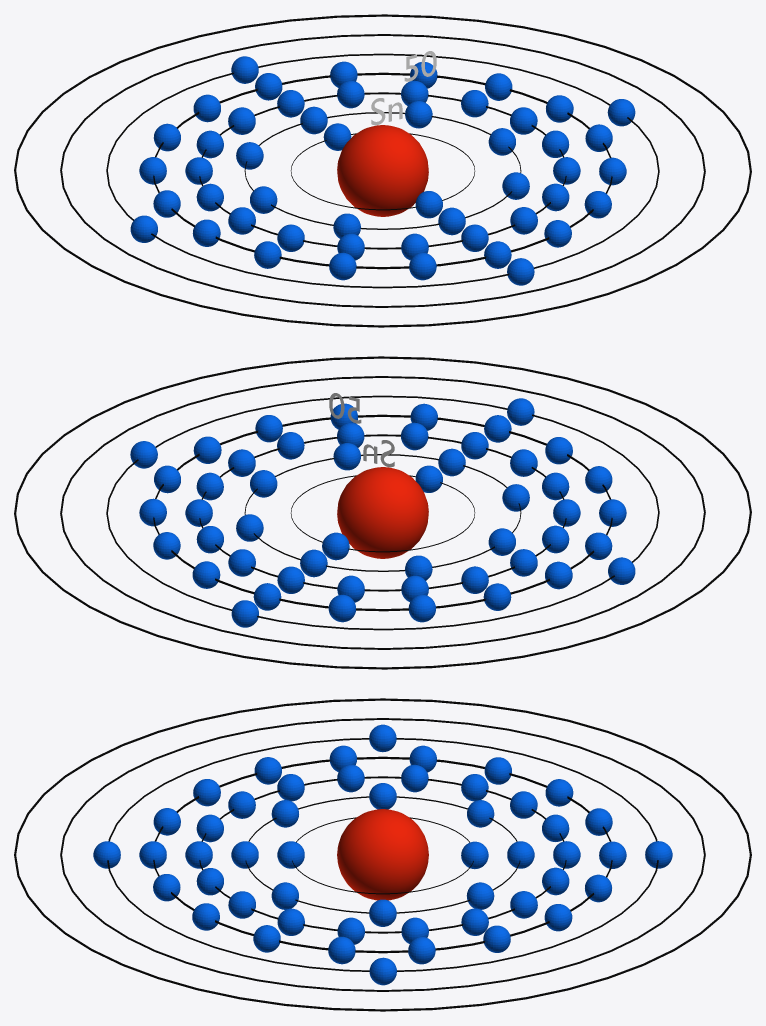
The picture shows the model from 3 angles, top to bottom: view 1: azimuth 30°, elevation 25°; view 2: azimuth 150°, elevation 25°; view 3: azimuth 270°, elevation 25°; orthographic projection.
Parts seen in each view (by area): view 1: Sn3, Sn4, Proton, Sn2, n7, n6, n5, Sn5, n4, Sn1, n3, n2; view 2: Sn3, Sn4, Proton, Sn2, n7, n6, n5, Sn5, n4, Sn1, n3, n2; view 3: Sn3, Sn4, Proton, Sn2, n7, n6, n5, Sn5, n4, Sn1, n3, n2 (+1 smaller).
Part boxes in pixels (x1,y1,x2,y2): Sn3: (185, 80, 580, 260); Sn4: (139, 61, 626, 280); Proton: (337, 125, 428, 216); Sn2: (236, 101, 529, 238); n7: (14, 14, 751, 327); n6: (60, 34, 705, 307); n5: (106, 53, 659, 288); Sn5: (130, 56, 635, 285); n4: (153, 72, 612, 269); Sn1: (323, 123, 442, 218); n3: (199, 92, 566, 249); n2: (244, 112, 521, 229); Sn3: (185, 422, 580, 602); Sn4: (139, 403, 626, 622); Proton: (337, 467, 428, 558); Sn2: (236, 443, 529, 580); n7: (14, 356, 751, 669); n6: (60, 376, 705, 649); n5: (106, 395, 659, 630); Sn5: (130, 398, 635, 627); n4: (153, 414, 612, 611); Sn1: (322, 465, 442, 560); n3: (199, 434, 566, 591); n2: (244, 454, 521, 571); Sn3: (185, 764, 580, 944); Sn4: (139, 745, 626, 964); Proton: (337, 809, 428, 900); Sn2: (231, 783, 534, 926); n7: (14, 698, 751, 1011); n6: (60, 718, 705, 991); n5: (107, 738, 658, 971); Sn5: (93, 724, 672, 985); n4: (153, 756, 612, 953); Sn1: (277, 841, 488, 869); n3: (199, 776, 566, 933); n2: (245, 796, 520, 913).
Size of the model in its own units: 802 by 180 by 802.
